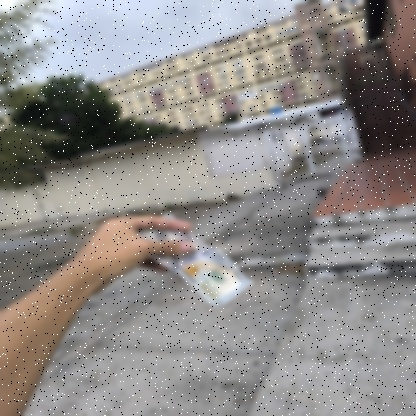one_hundred-front: (134, 210, 258, 309)
